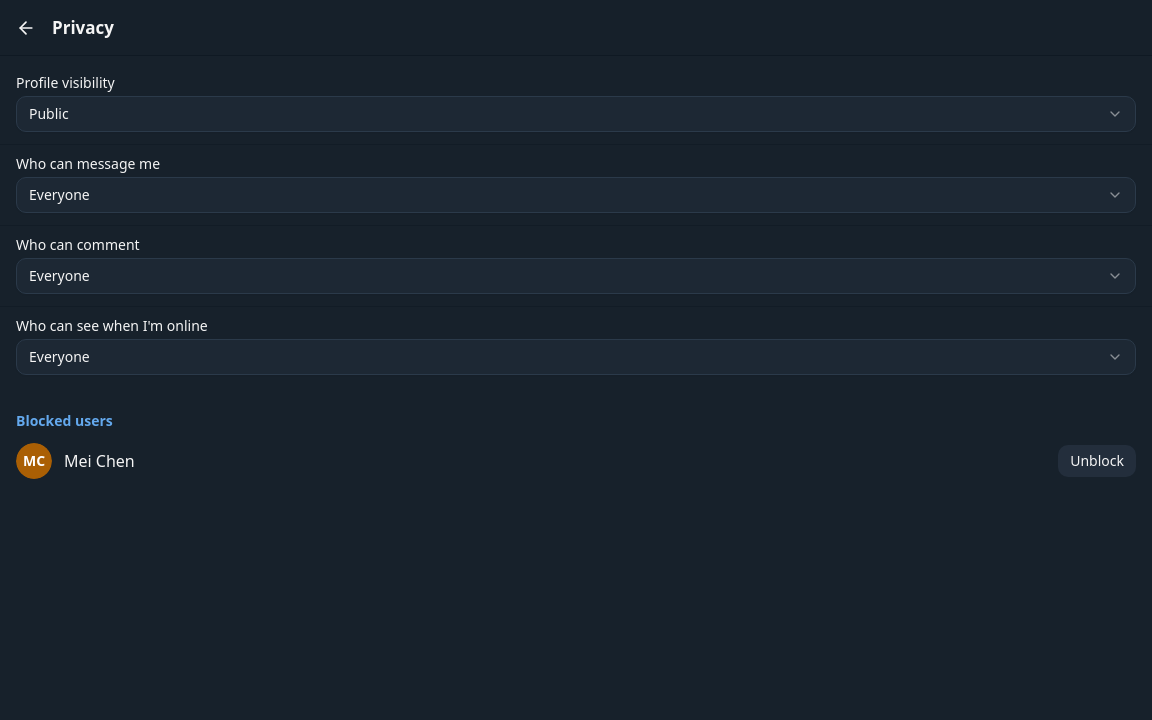
it: settings › lists and unblocks blocked users
Expected: the text "Mei Chen" is shown, [64,450,135,472]
Click the button "Unblock" at (1097, 461), box [1058,445,1136,477]
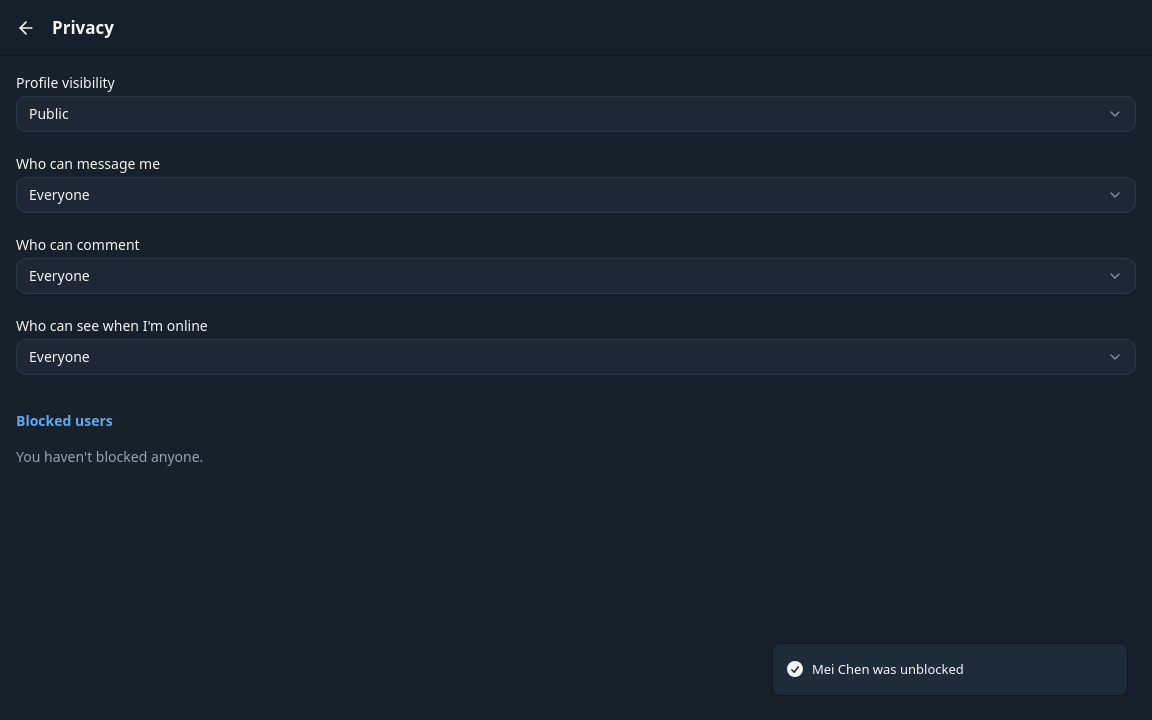
Expected: the text "You haven't blocked anyone." is shown, [16,447,203,466]
